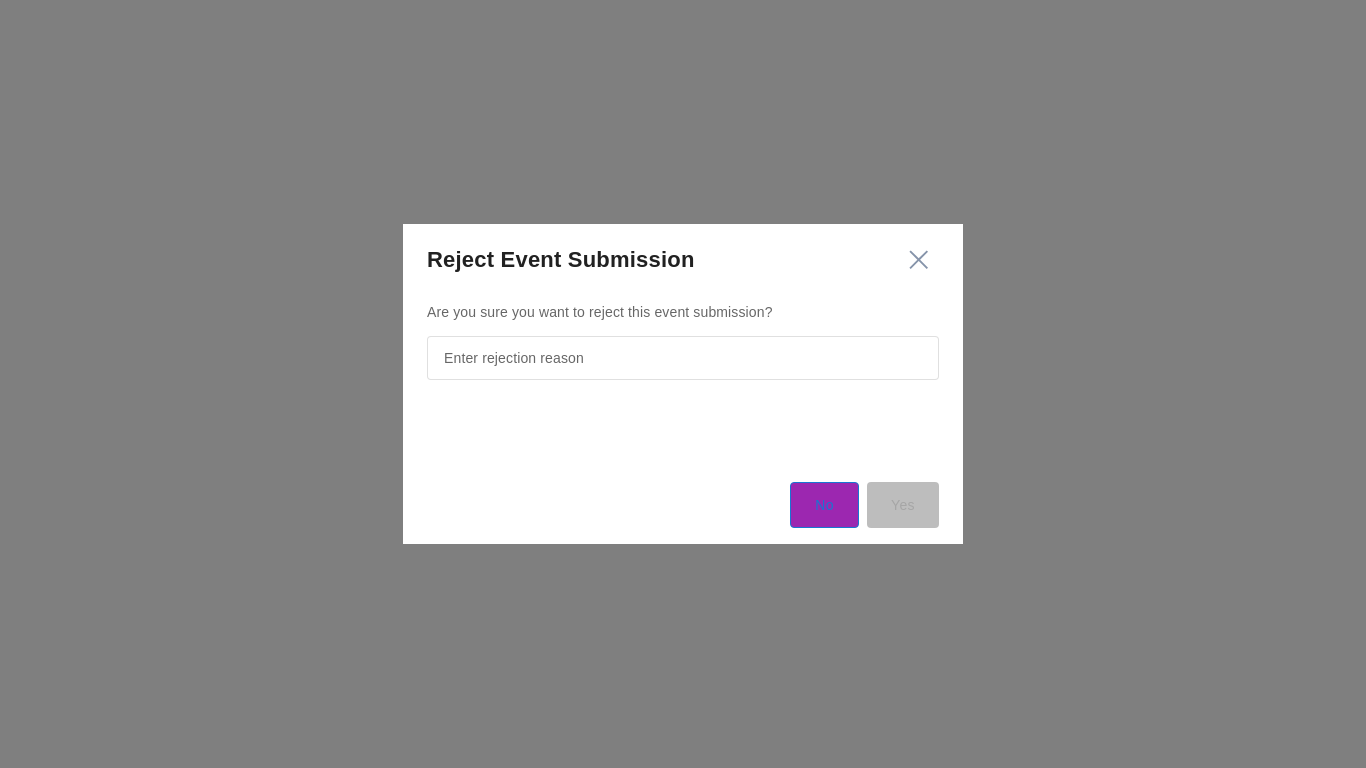
Test: RejectModal › Buttons › should enable Yes button when reason is provided
Step 1. Type "Test reason" into the field with placeholder "Enter rejection reason" → (683, 358), box [428, 337, 938, 379]
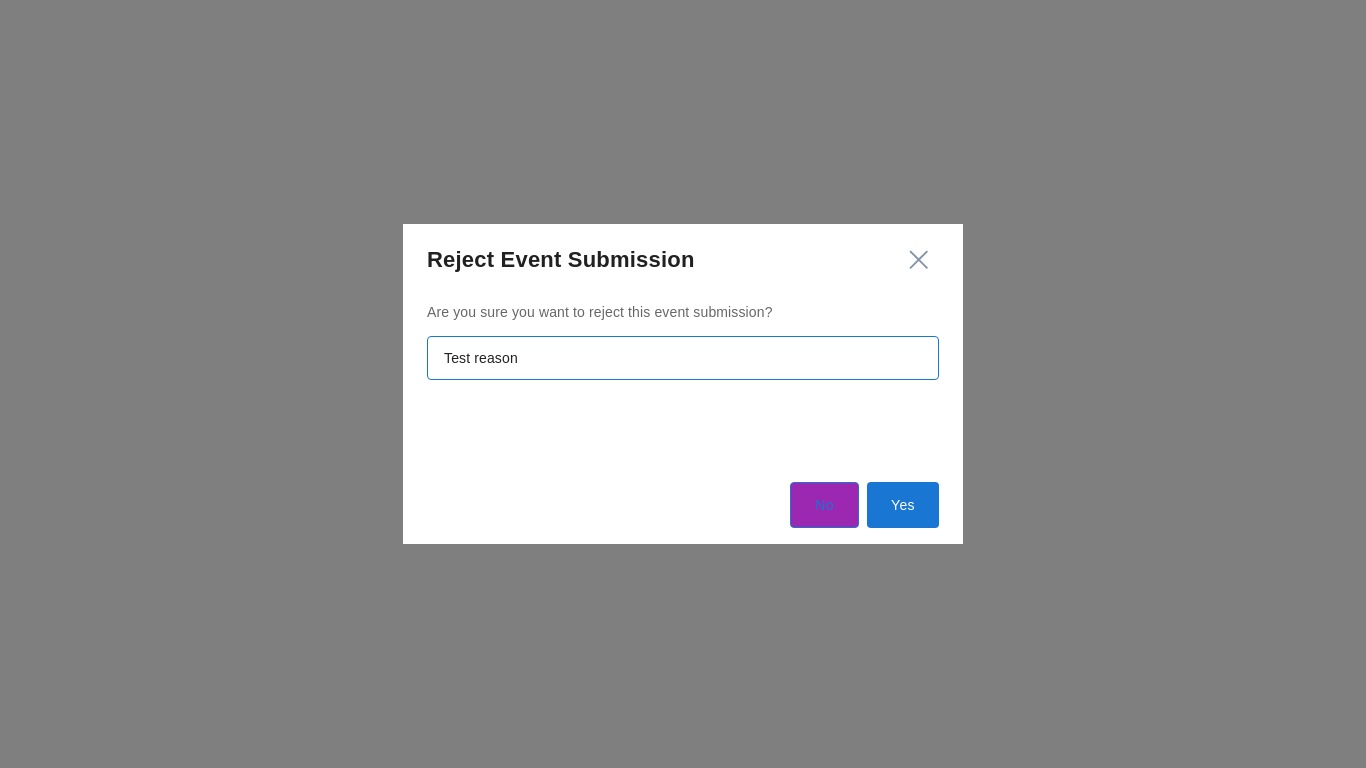
expect the button "Yes" is enabled: met, box [867, 482, 939, 528]
